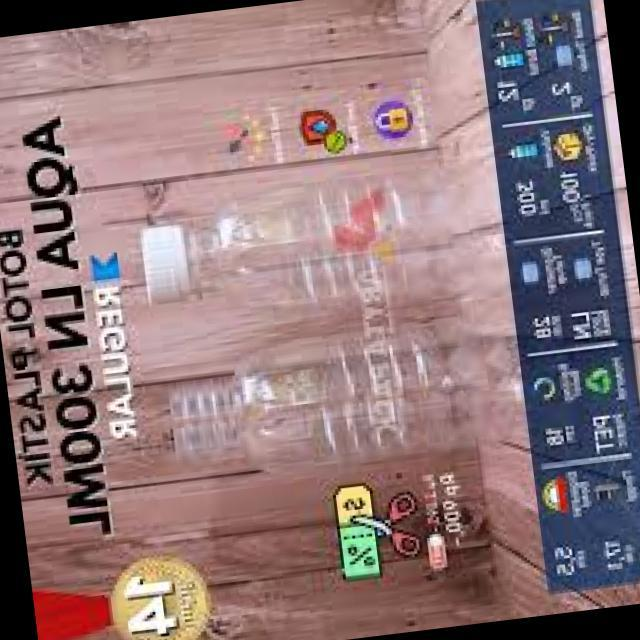good: (155, 317, 540, 508), (128, 158, 504, 351)
